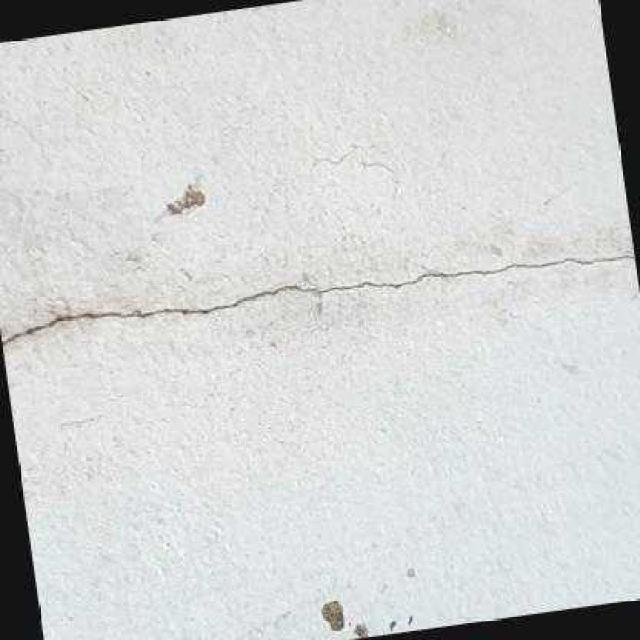D00: (9, 249, 636, 347)
